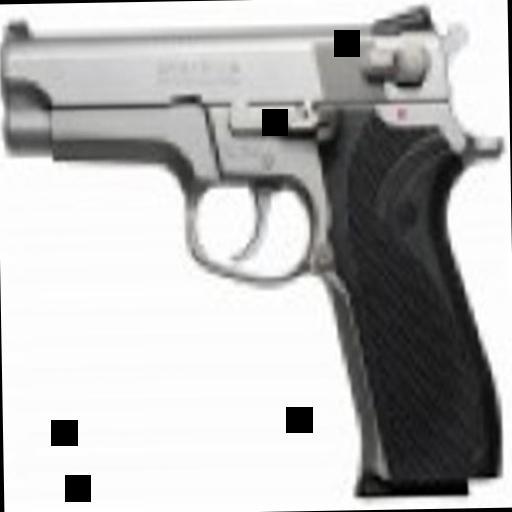Handgun: (7, 3, 505, 497)
